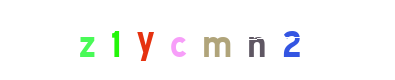1: (105, 0, 185, 80)
2: (251, 0, 331, 80)
C: (157, 0, 237, 80)
M: (169, 0, 249, 80)
N: (216, 0, 296, 80)
Y: (155, 0, 235, 80)
Z: (59, 0, 139, 80)
